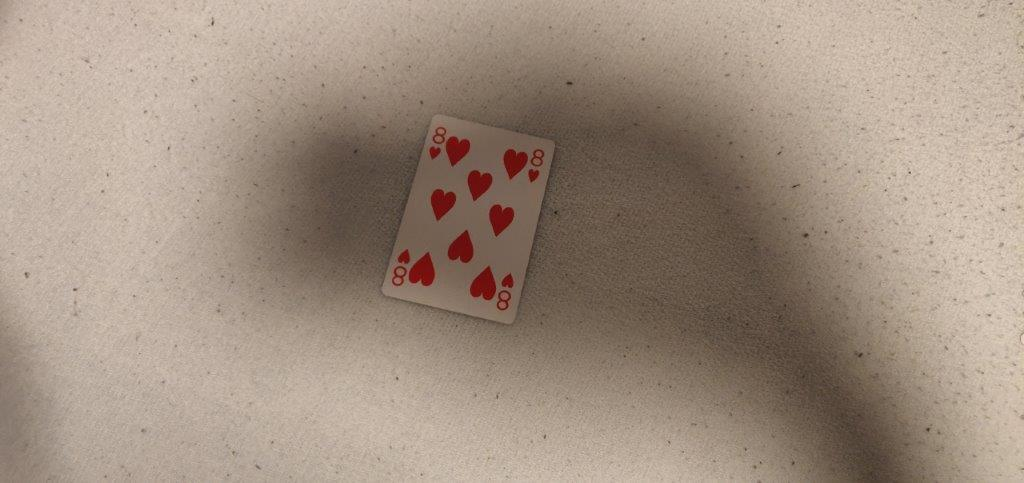8H: (426, 121, 448, 163), (524, 147, 547, 184)
